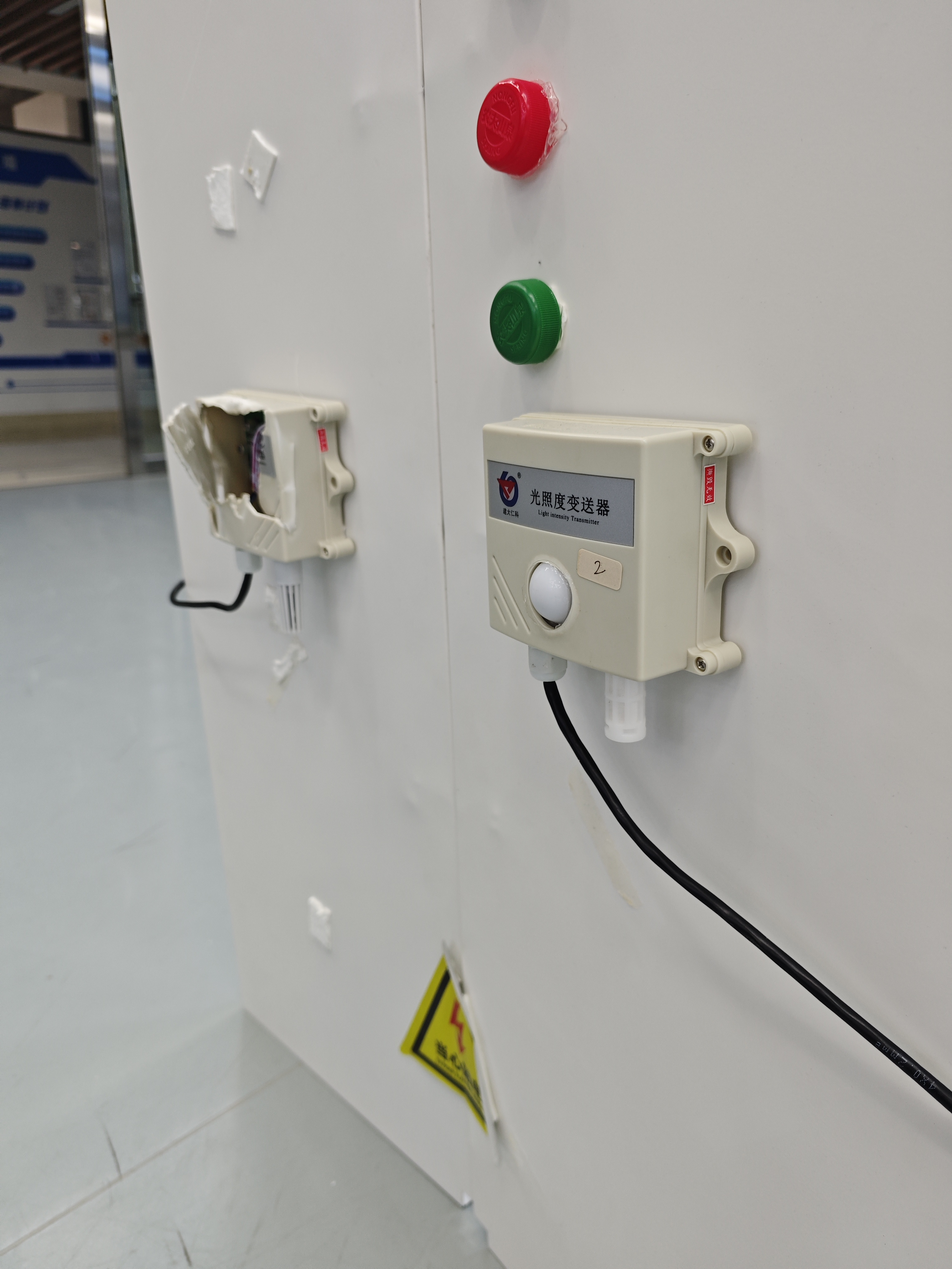red_warning: (447, 49, 593, 201)
sensor_damage: (159, 367, 368, 641)
